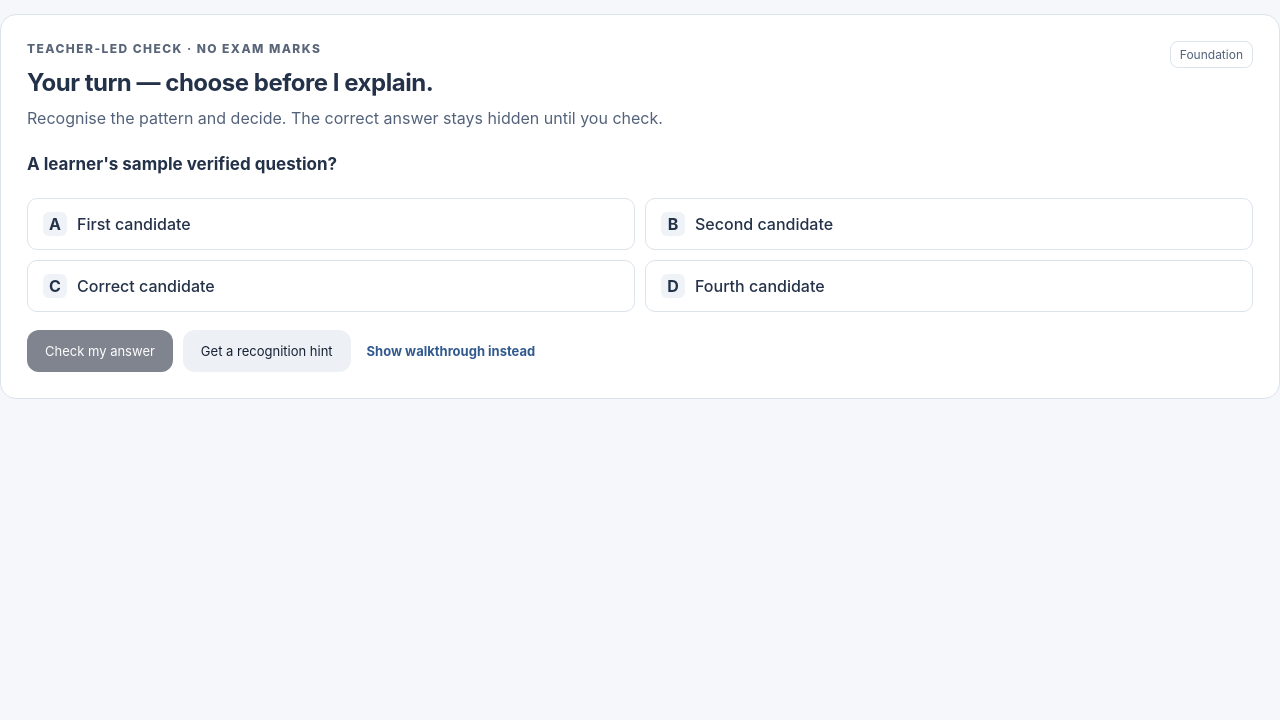
Test case: Teacher guided check › supports a recognition hint without automatically revealing answer or awarding mastery
The image size is (1280, 720).
Click the button "Get a recognition hint".
click(267, 351)  # box [183,330,351,372]
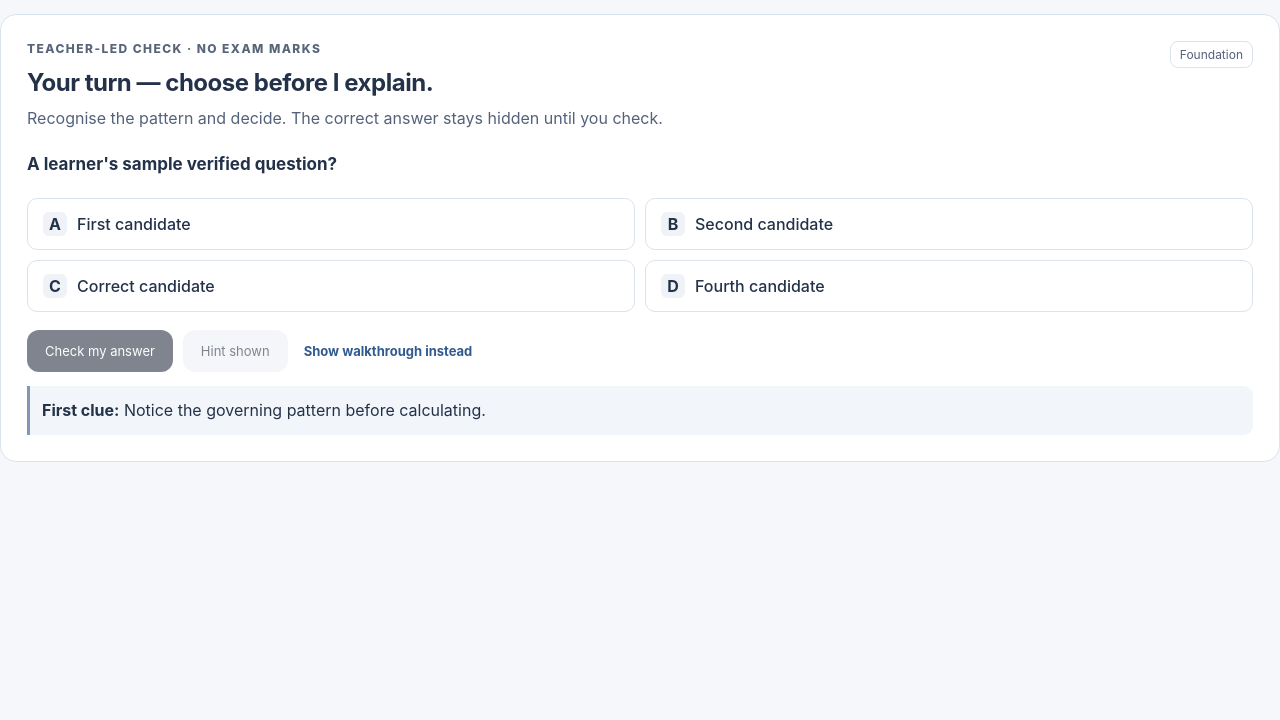
Check: the text "VERIFIED_WORKED_EXPLANATION for teaching this sample." is not shown
Check: the text "First clue: Notice the governing pattern before calculating." is shown, box [27,386,1253,435]
Click the button "C Correct candidate".
click(146, 286)  # box [27,260,635,312]
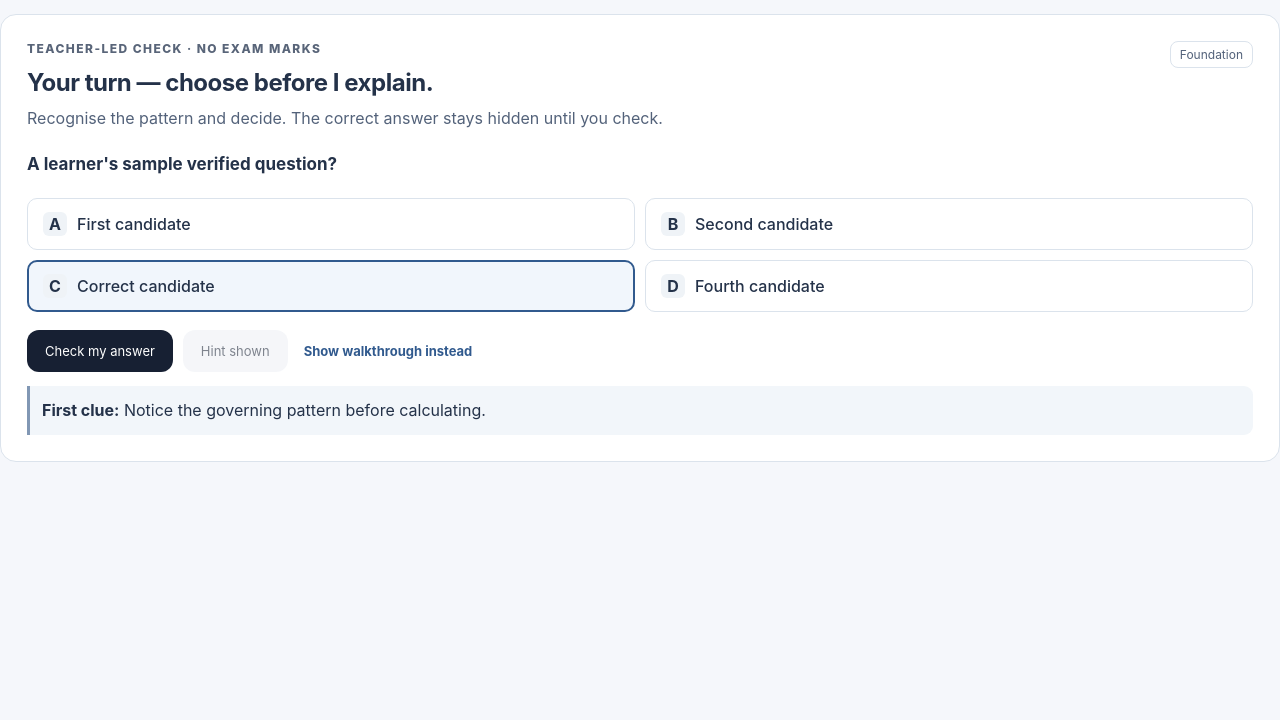
Click the button "Check my answer".
click(100, 351)  # box [27,330,173,372]
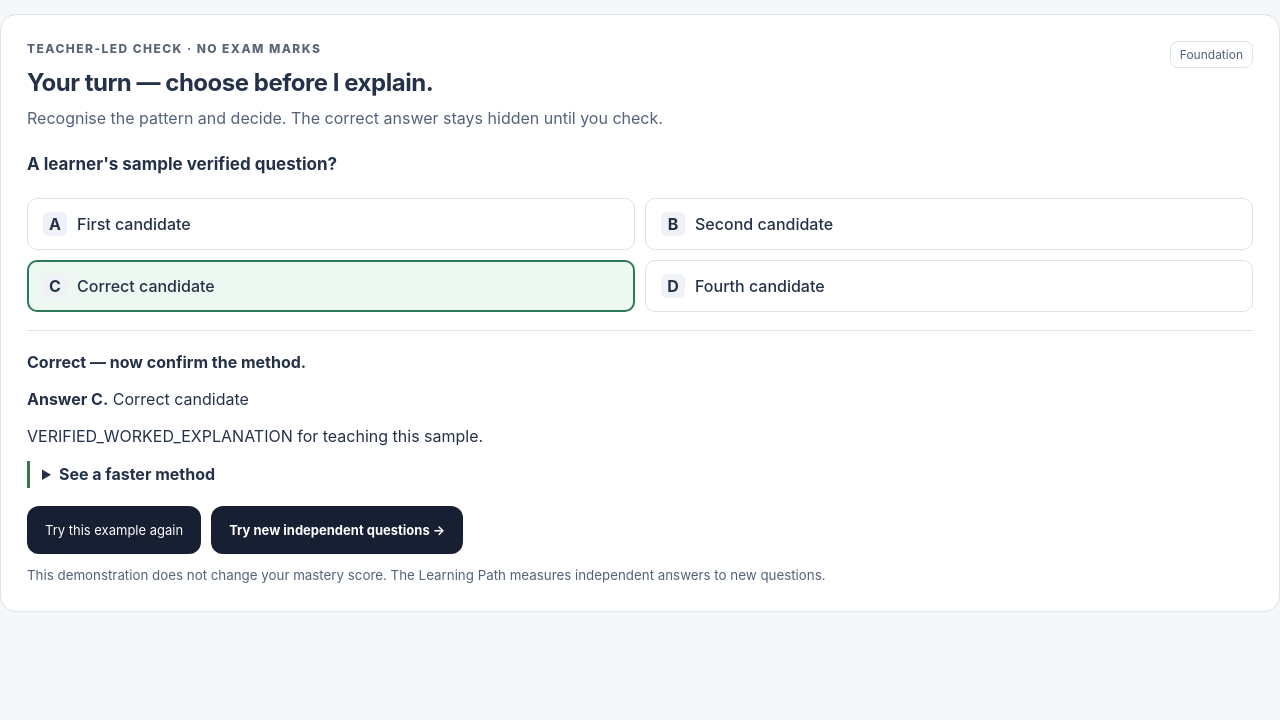
Check: the text "Correct — now confirm the method." is shown, box [27,352,306,372]
Check: the text "does not change your mastery score" is shown, box [27,567,826,583]
